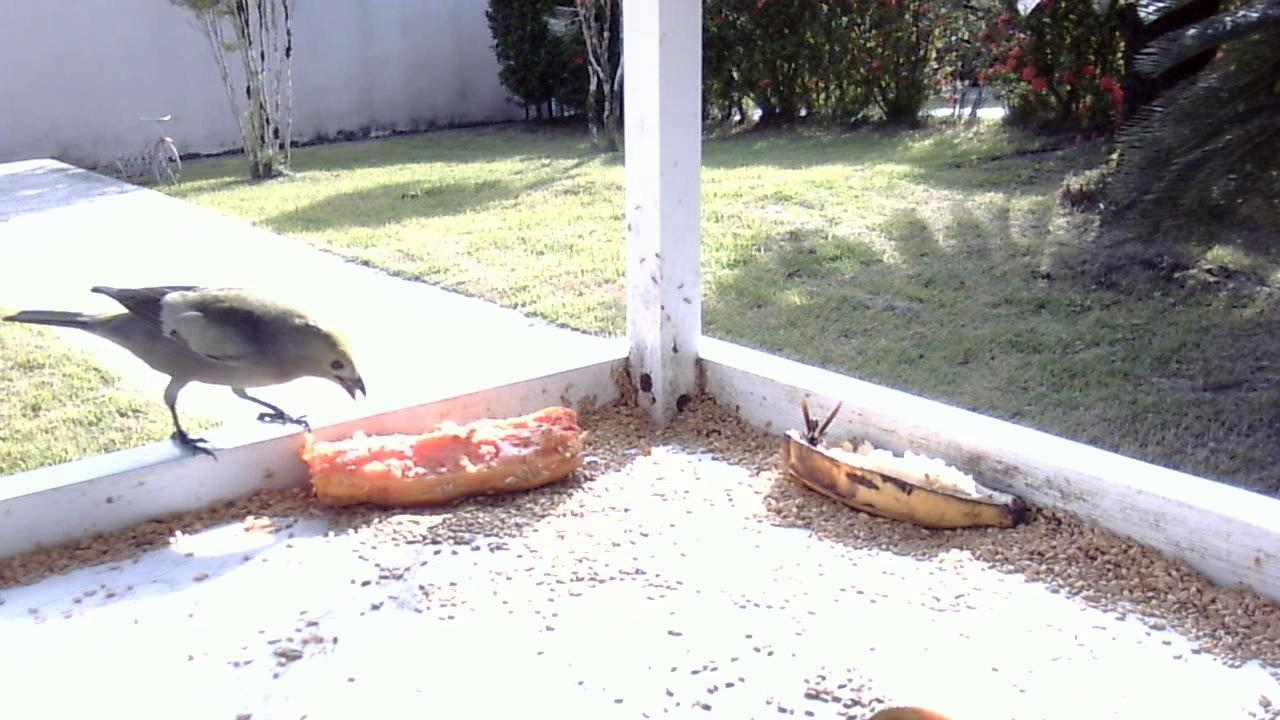sanhaco_do_coqueiro: (6, 272, 373, 483)
